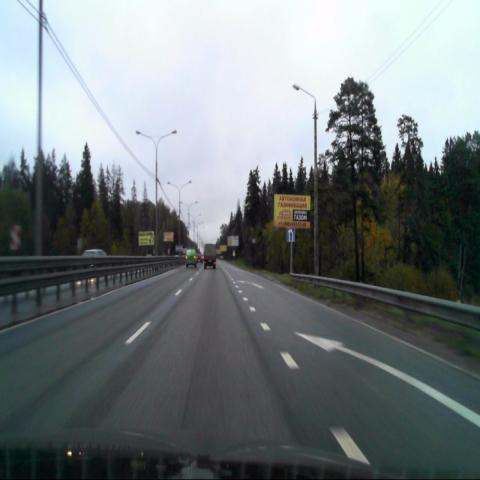5_15_5: (286, 227, 294, 242)
